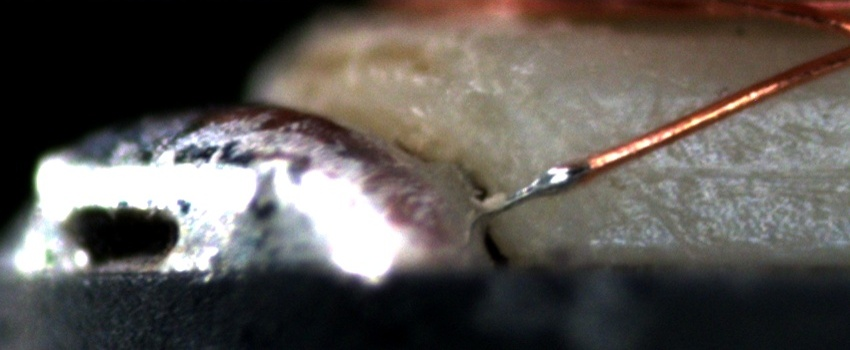DL: (546, 69, 850, 133), (625, 142, 850, 206)
TS: (478, 160, 588, 218)
TTCW: (480, 141, 632, 213)
